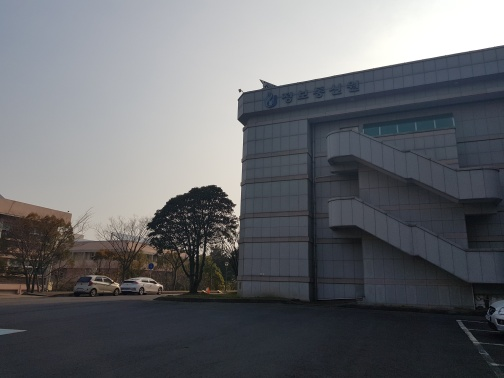Information Telecommunication Center: (239, 86, 503, 304), (266, 73, 368, 106)
